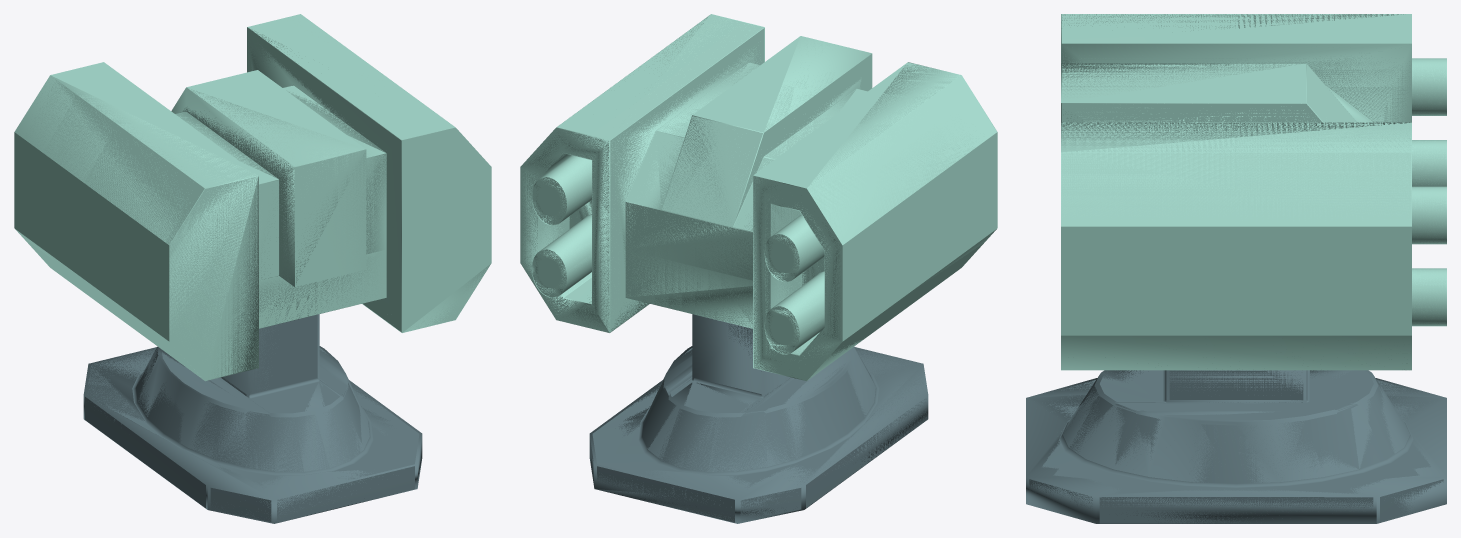
The model's file is space-kit__turret_double.glb.
The picture shows the model from 3 angles, left to right: view 1: azimuth 30°, elevation 25°; view 2: azimuth 150°, elevation 25°; view 3: azimuth 270°, elevation 25°; orthographic projection. The views are drawn at different scales.
Parts seen in each view (by area): view 1: L0_accent, L1_accent, L0_dark, L1_dark; view 2: L0_accent, L1_accent, L0_dark, L1_dark; view 3: L0_accent, L1_accent, L1_dark, L0_dark.
Part boxes in pixels (x1,y1,x2,y2): L0_accent: (14,14,490,380); L1_accent: (14,14,491,381); L0_dark: (85,314,419,522); L1_dark: (83,314,422,523); L0_accent: (521,14,997,380); L1_accent: (520,14,997,381); L0_dark: (589,324,926,522); L1_dark: (589,314,928,523); L0_accent: (1061,14,1446,370); L1_accent: (1061,14,1446,370); L1_dark: (1026,370,1446,523); L0_dark: (1029,370,1443,523).
Size of the model in its own units: 1 by 1 by 1.
